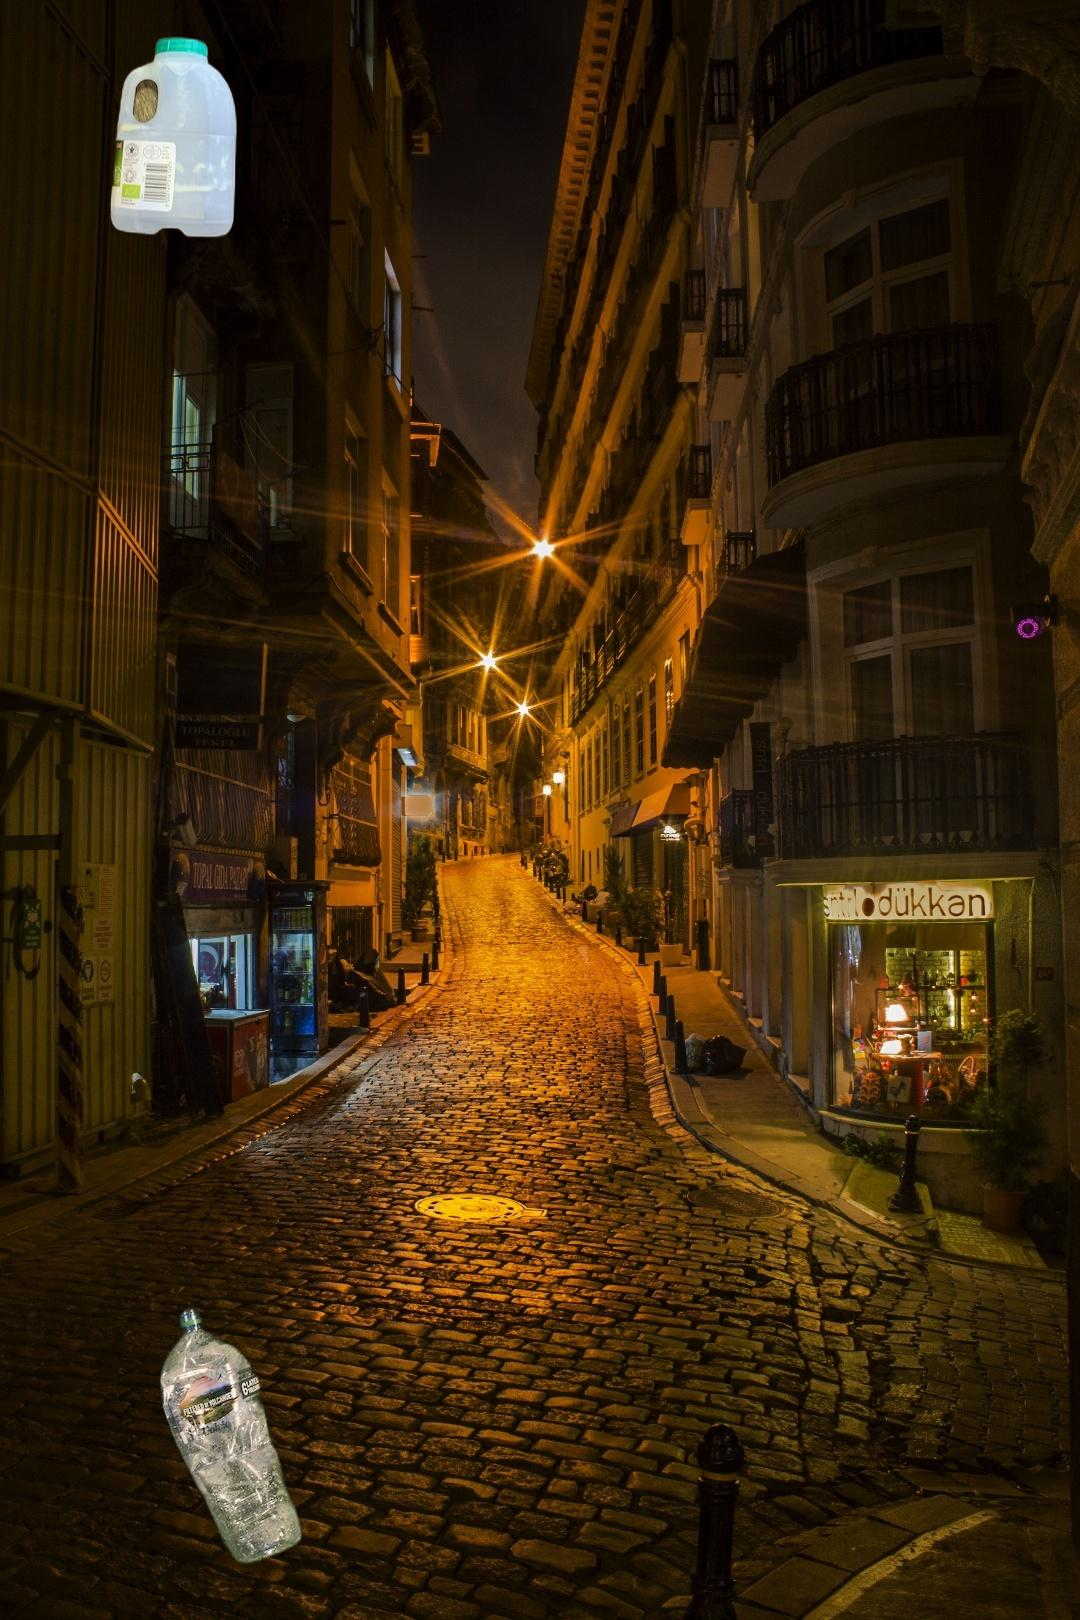plastic-bottles: (155, 1303, 307, 1571), (105, 30, 242, 243)
